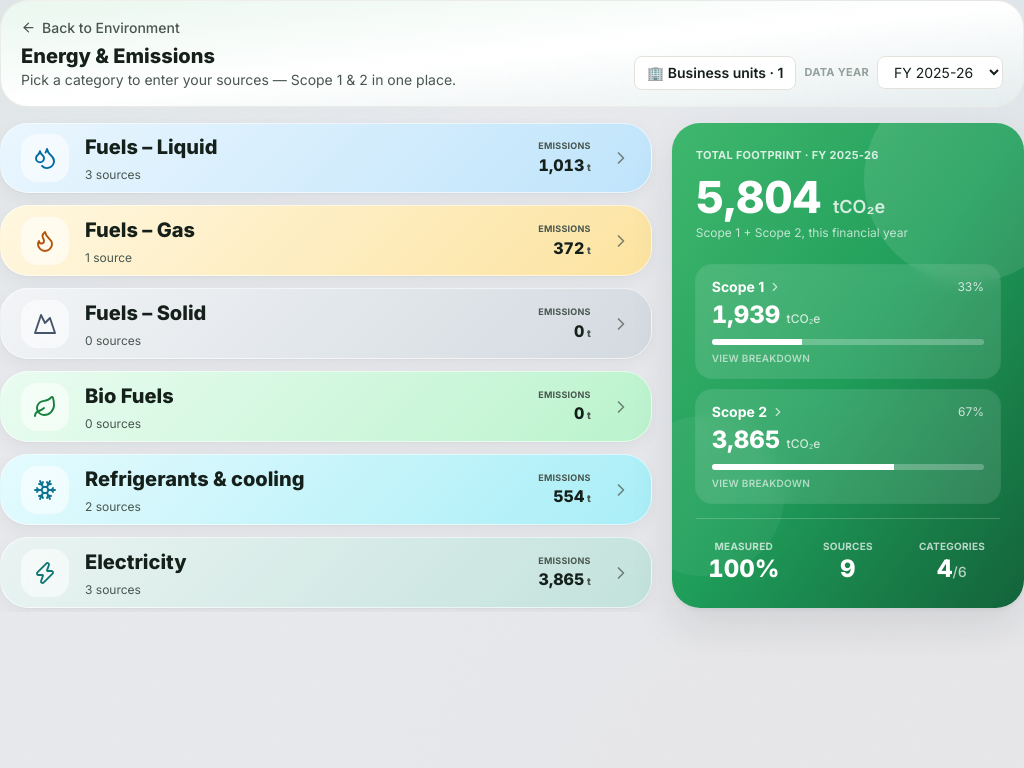
ActivityDataTab — Entry screen shows calc live › entry screen shows the calculation inline (no collapsible)
Click the button "Fuels – Liquid": (45, 158) [0,122,652,193]
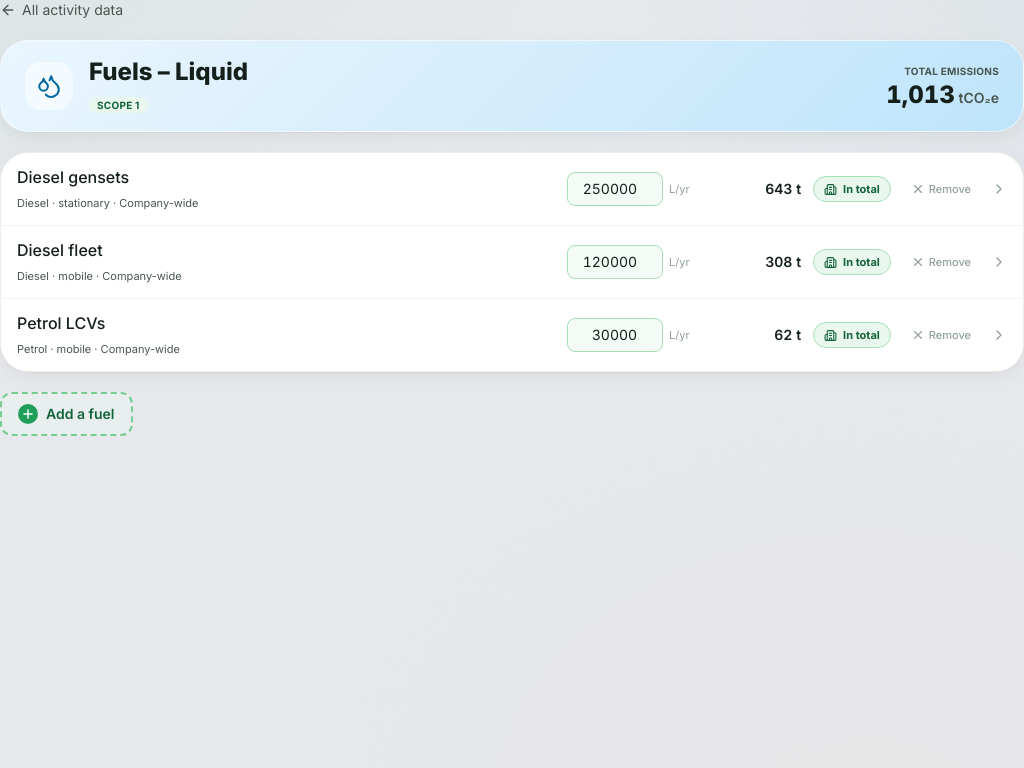
Click the button "Add a fuel": (66, 414) [0,392,132,436]
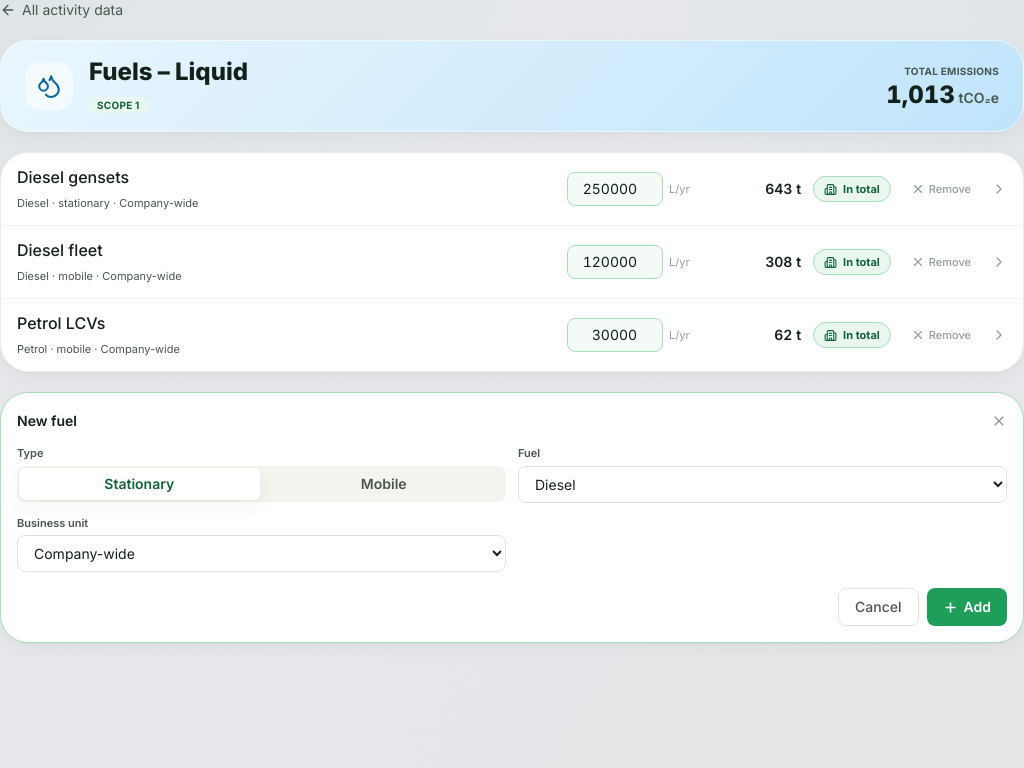
Click the button "Add": (967, 607) [926,588,1007,626]
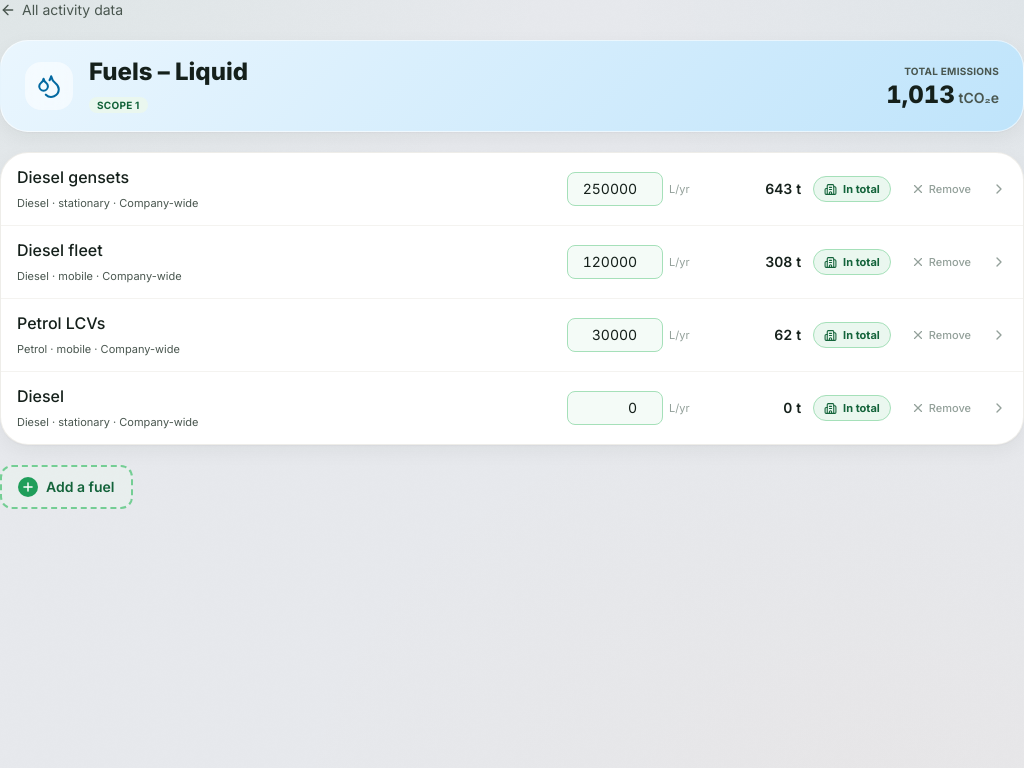
Click the text "Diesel": (41, 396) [17,386,198,429]
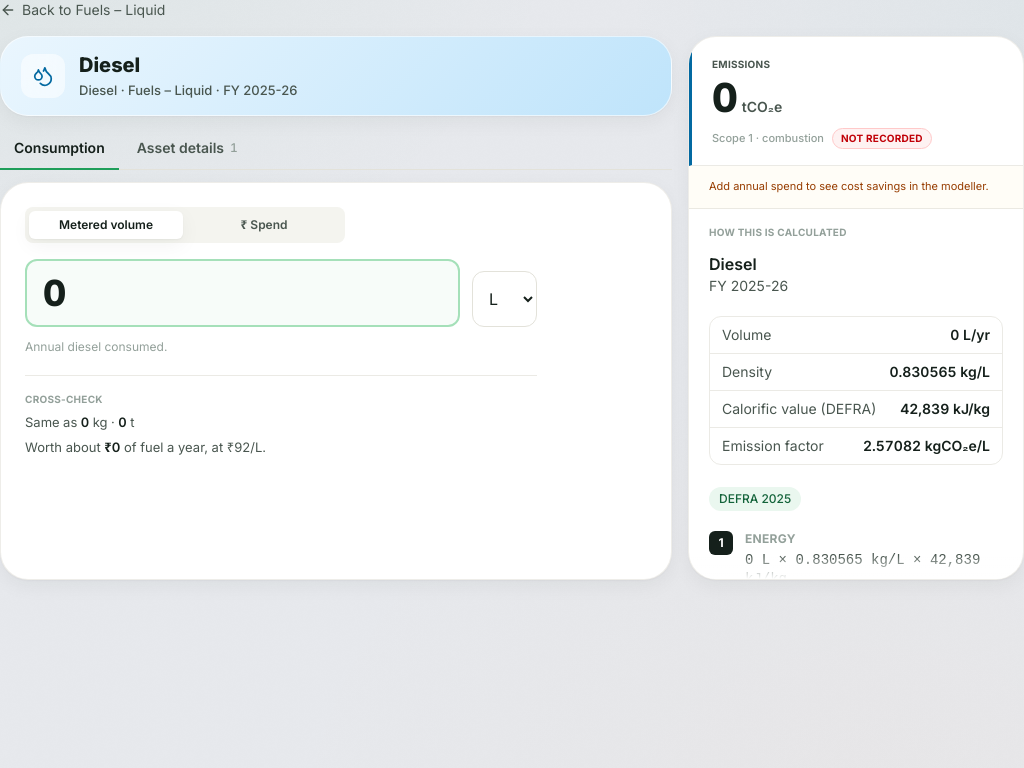
Check: the text "tCO₂e" is shown, box [742,98,782,115]
Check: the text "How this is calculated" is shown, box [709,226,847,238]
